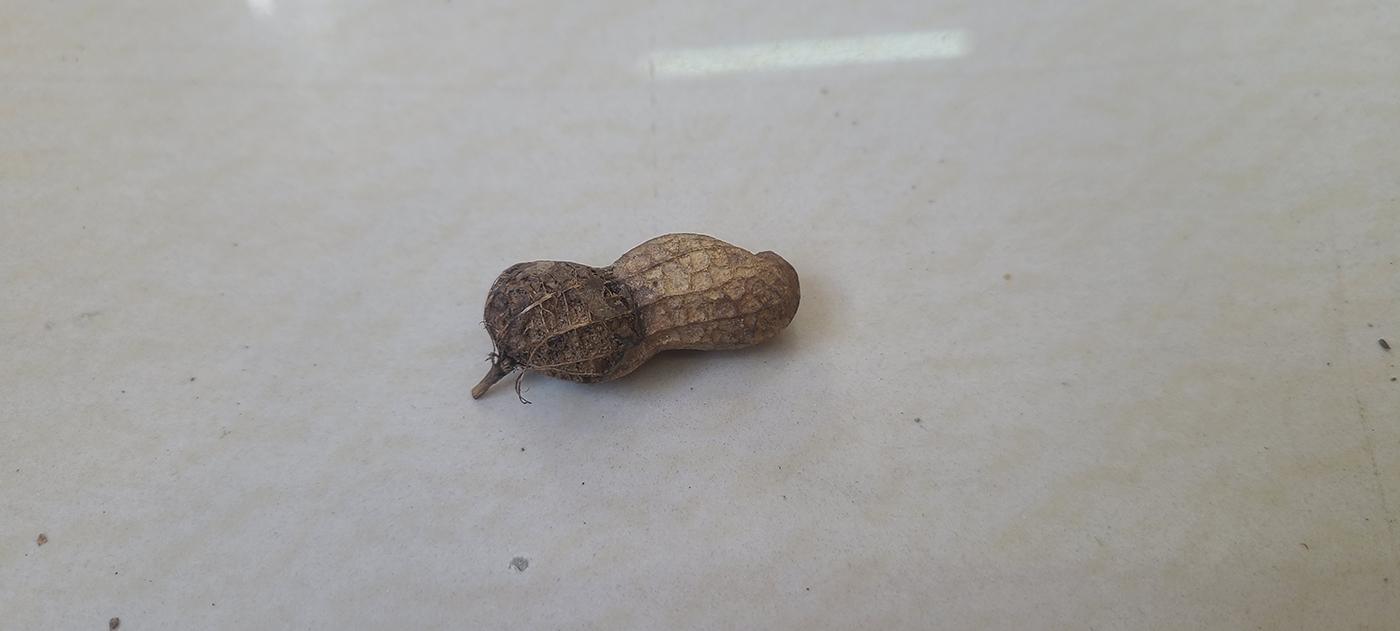l: (481, 230, 800, 385)
